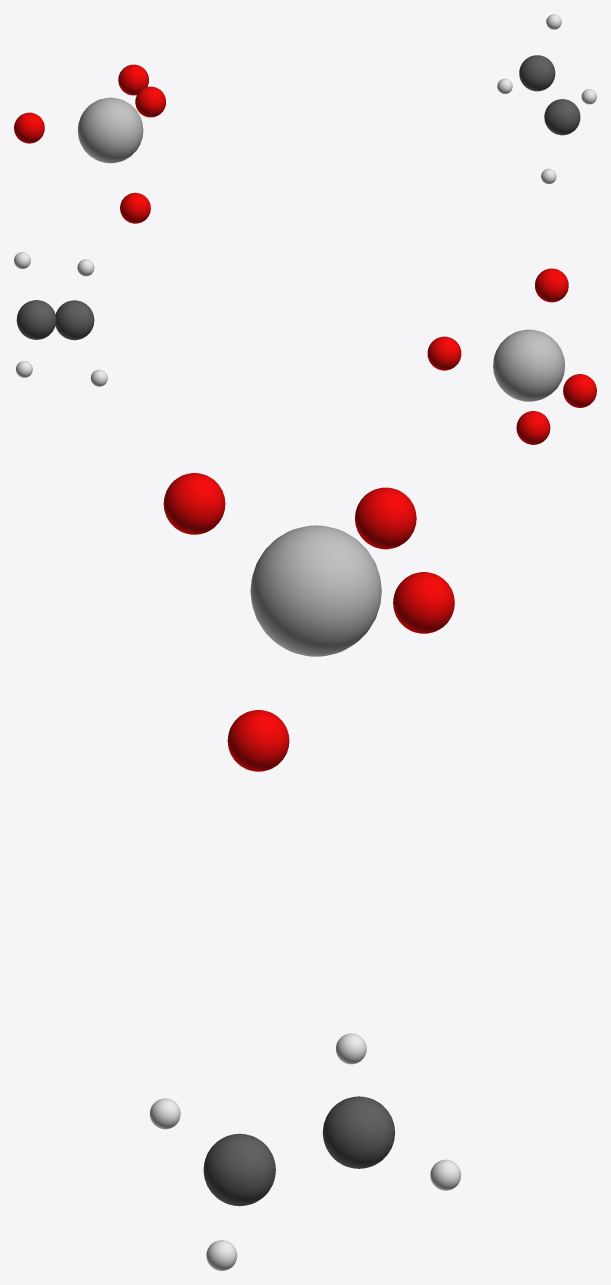
File: OsO4_complete.fbx
The picture shows the model from 3 angles, top to bottom: view 1: azimuth 30°, elevation 25°; view 2: azimuth 150°, elevation 25°; view 3: azimuth 270°, elevation 25°; orthographic projection. The views are drawn at different scales.
Visible parts, largest first — view 1: Os01, C07, C06, O03, O02, O04, O05; view 2: Os01, C06, C07, O05, O03, O02, O04; view 3: Os01, C07, C06, O03, O04, O02, O05.
Part boxes in pixels (<box>): Os01: <box>77,97,143,163</box>; C07: <box>544,99,580,135</box>; C06: <box>519,55,555,91</box>; O03: <box>14,112,44,143</box>; O02: <box>135,86,165,117</box>; O04: <box>120,192,150,223</box>; O05: <box>118,64,148,95</box>; Os01: <box>493,329,564,401</box>; C06: <box>16,300,56,339</box>; C07: <box>55,300,94,340</box>; O05: <box>427,336,461,370</box>; O03: <box>563,374,596,407</box>; O02: <box>535,268,568,302</box>; O04: <box>516,411,550,444</box>; Os01: <box>250,525,381,656</box>; C07: <box>203,1133,275,1206</box>; C06: <box>322,1096,395,1168</box>; O03: <box>355,487,416,549</box>; O04: <box>227,710,289,771</box>; O02: <box>163,473,225,534</box>; O05: <box>393,572,454,633</box>.
Size of the model in its own units: 1281 by 455 by 322.
